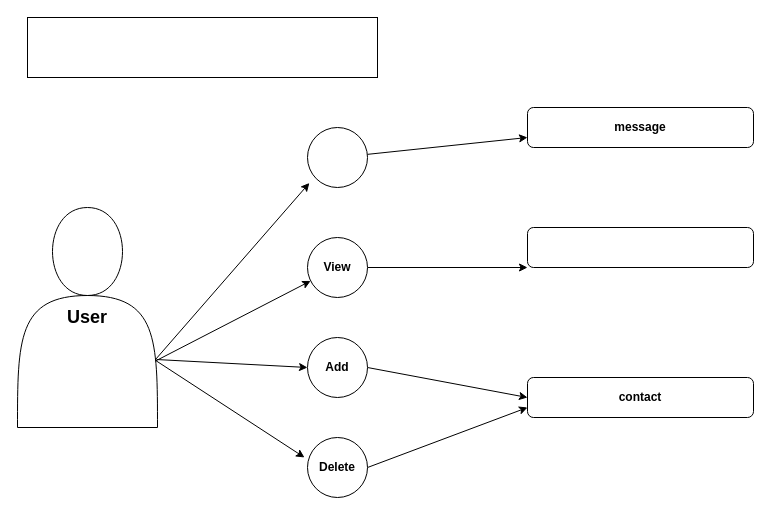
This 771x515 diagram has some shape labels left out. The shapes that lost their labels are listed below. From the top down, each one's centre as x and y in pixels, then its label:
At (202,47): "Chat Interface".
At (337,157): "Send".
At (640,247): "chat history".
